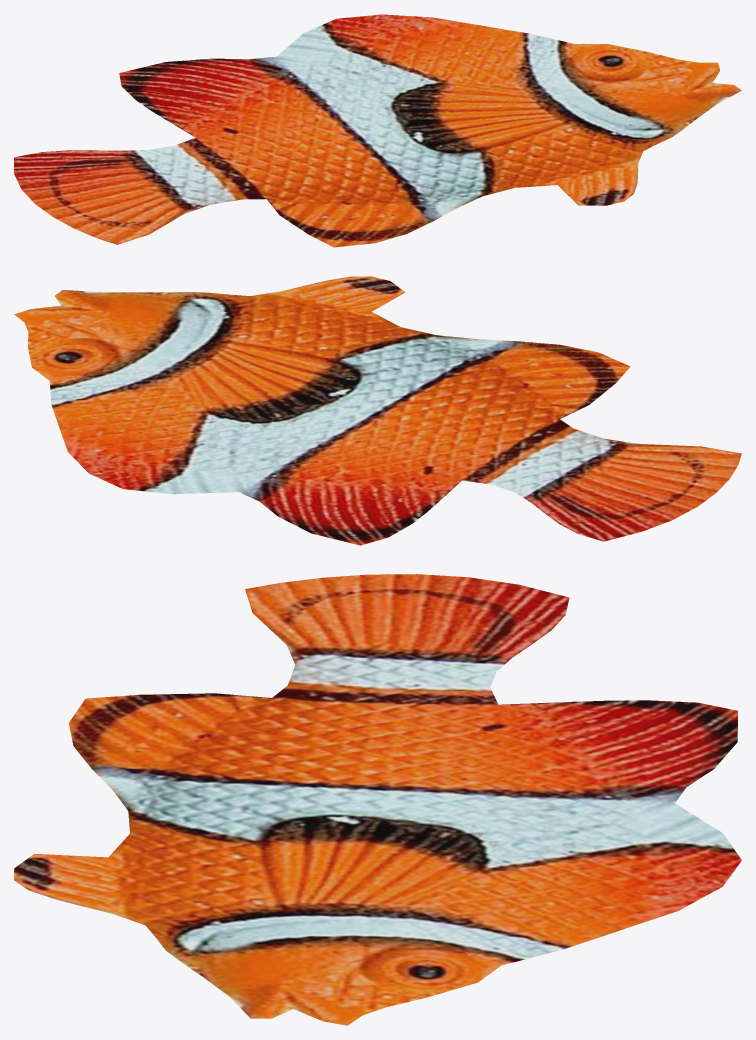
Rendered from fish3.FBX.
3 views of the same model, one above another, from view 1: azimuth 30°, elevation 25°; view 2: azimuth 150°, elevation 25°; view 3: azimuth 270°, elevation 25° (orthographic). The views are drawn at different scales.
Visible parts, largest first — view 1: fish01; view 2: fish01; view 3: fish01.
Boxes of the visible parts, x1,y1,x2,y2 form: fish01: (14,14,741,247); fish01: (14,276,741,545); fish01: (14,574,741,1025).
Size of the model in its own units: 198 by 0.2058 by 135.
